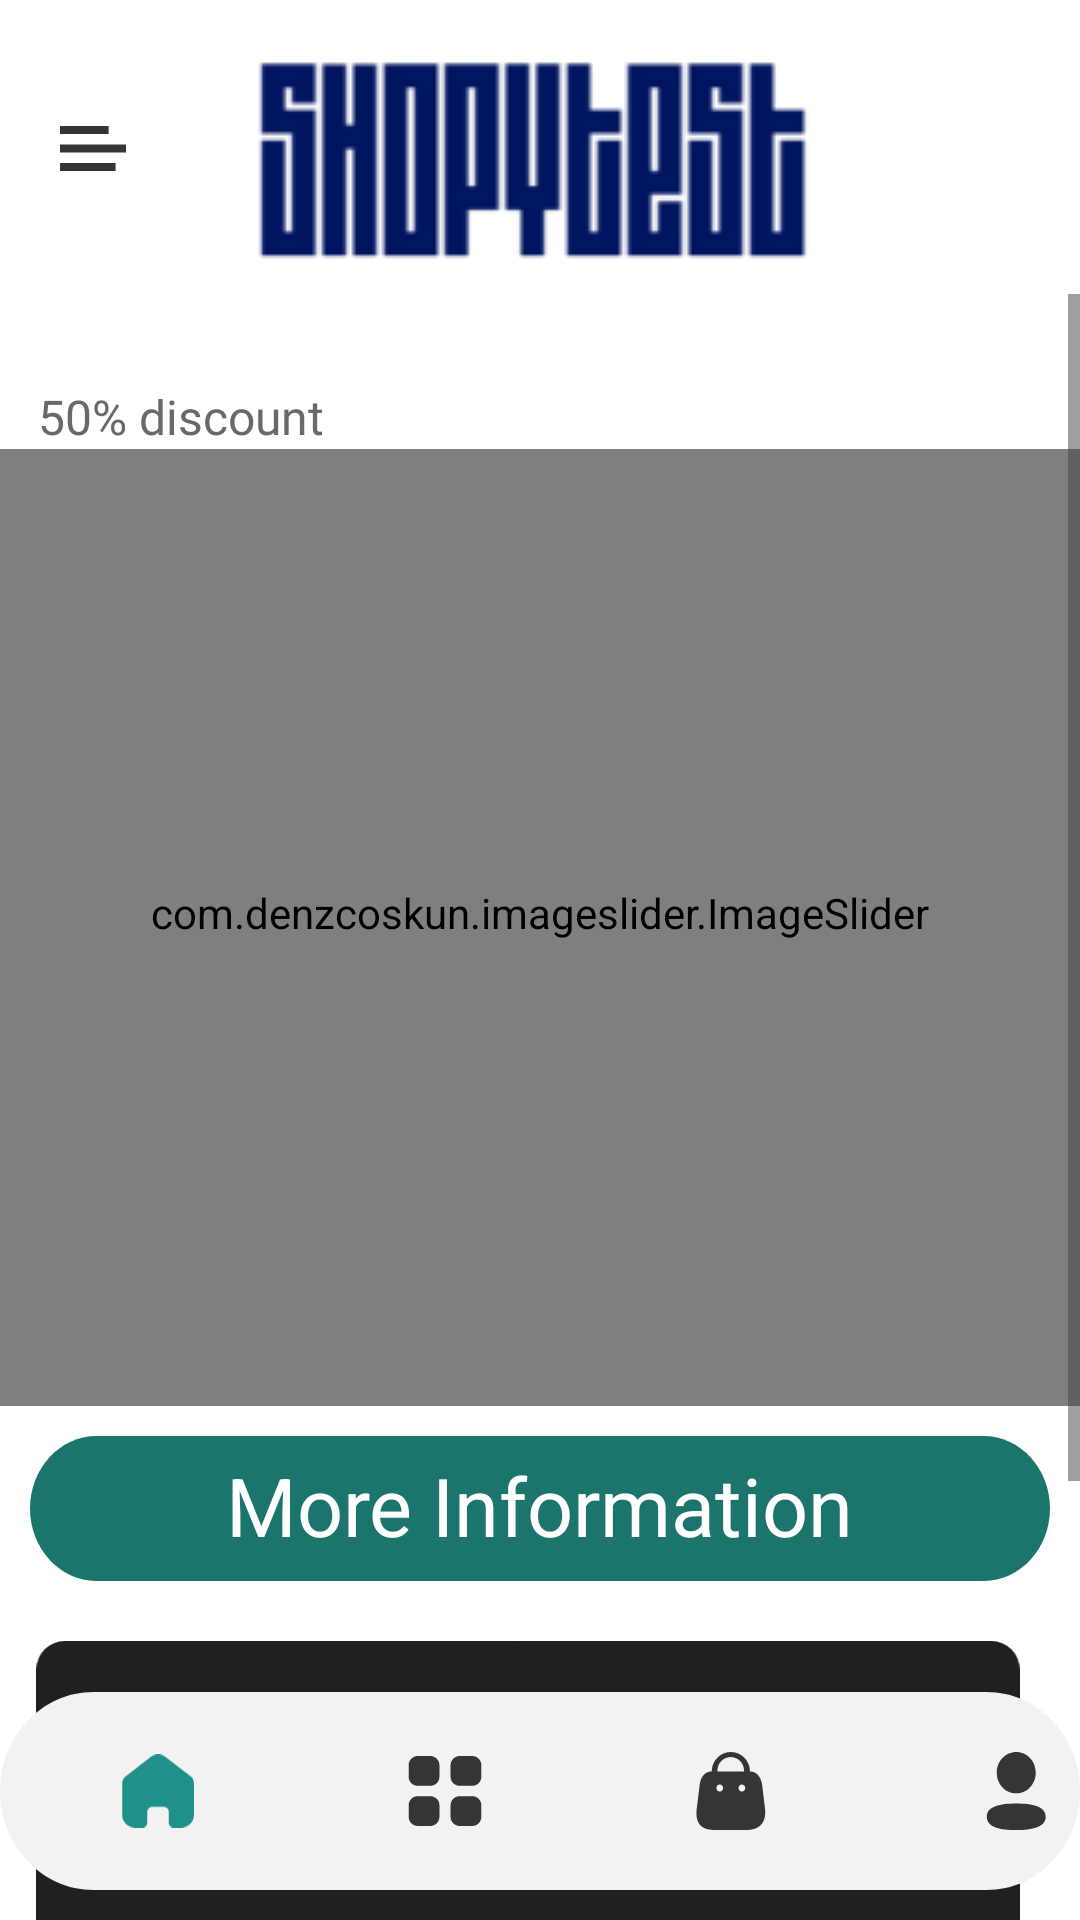

Where to tap for icons on this 1080 × 1920 app screen, as (x,y):
carrito: (731,1791)
categoryb: (445,1791)
homeg: (158,1791)
profileb: (1016,1791)
